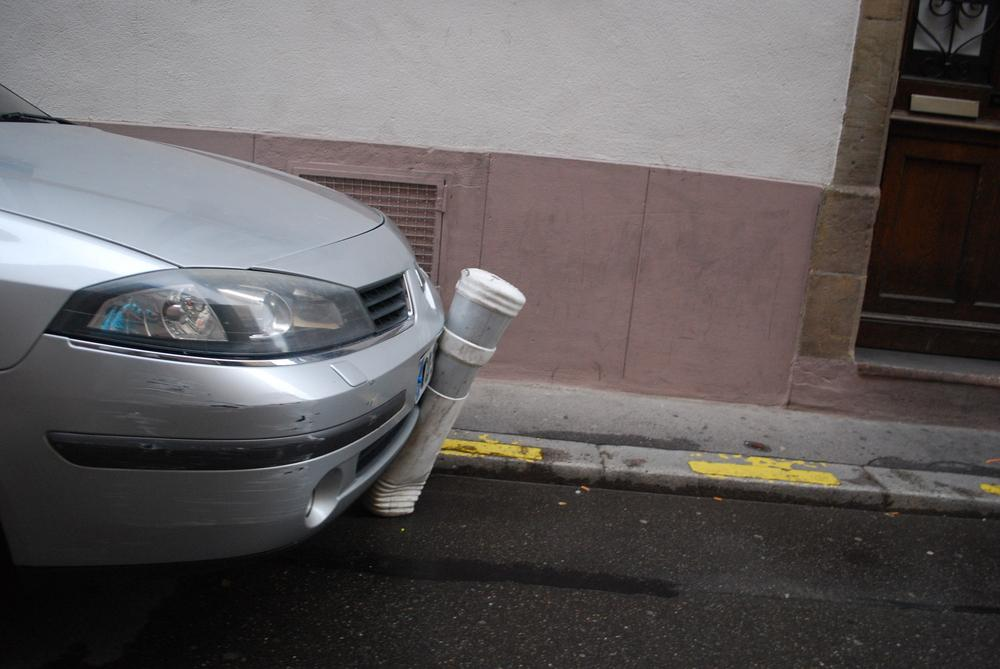scratch: (113, 371, 325, 522)
